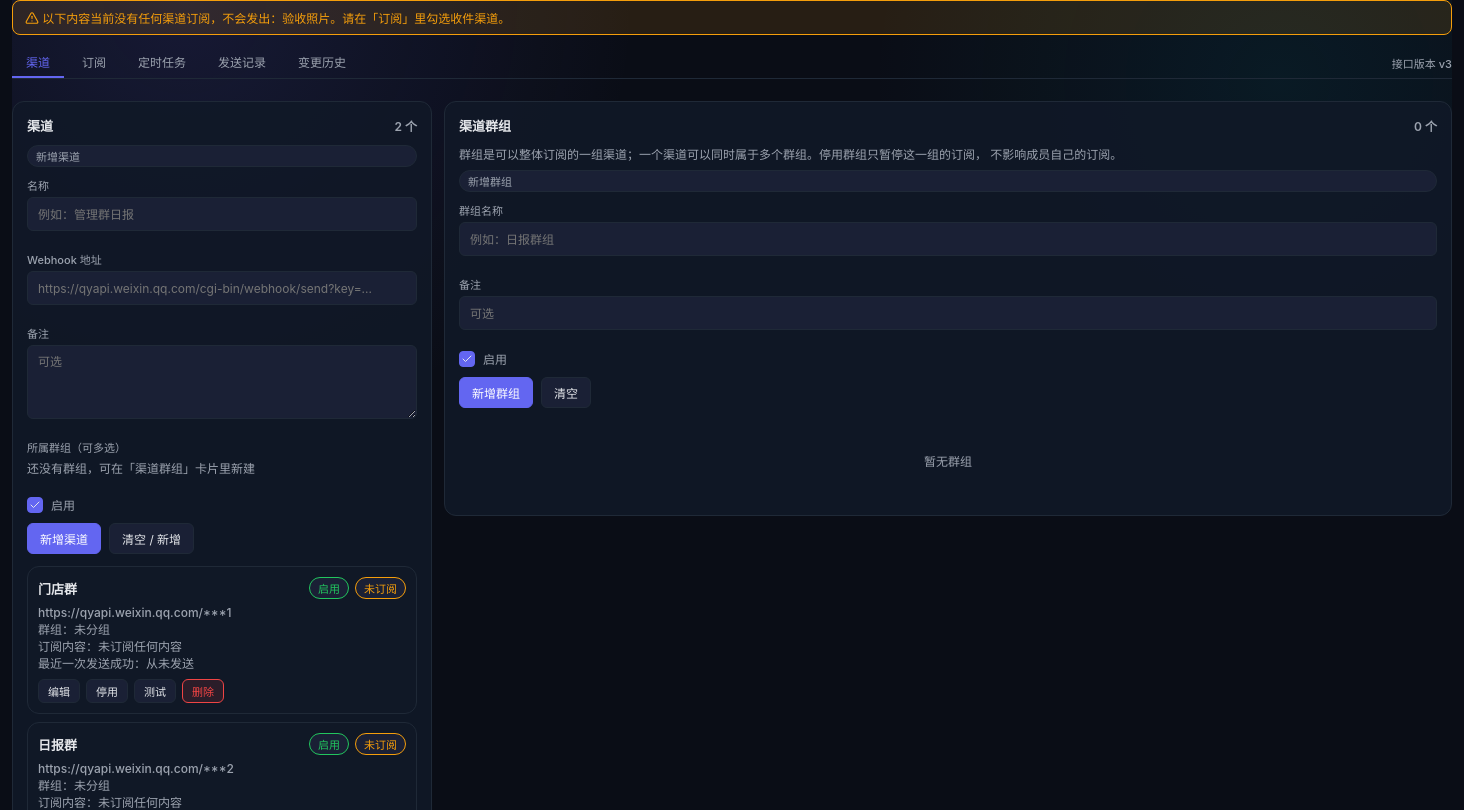
Test: 订阅矩阵 › 渠道不超过阈值时是勾选矩阵：行=内容类型，列=渠道
Click the button "订阅" at (94, 62), box [68,47,120,78]
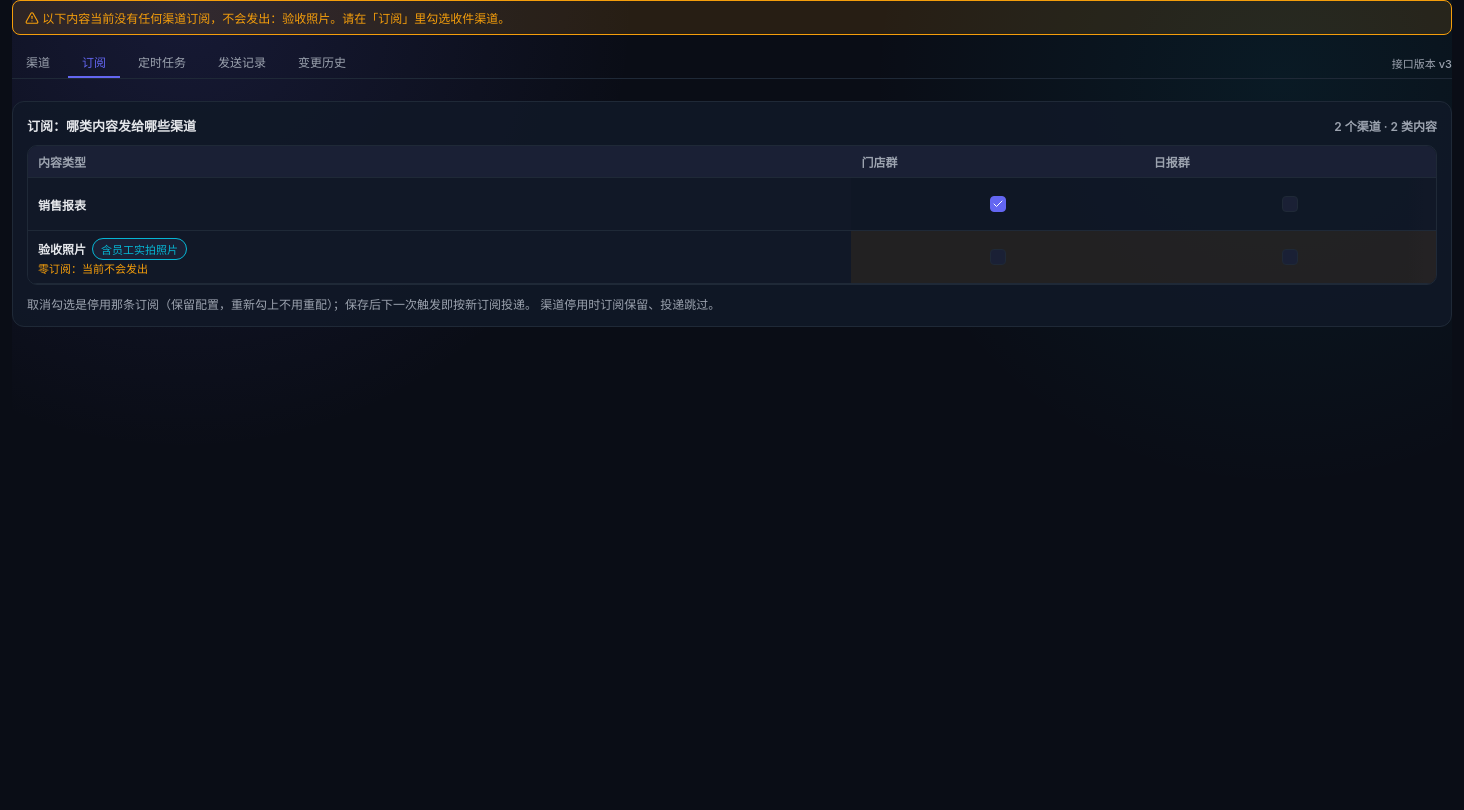
Now the table with class "wp-matrix" is shown, box [28,146,1436,284]
Now the column heading "内容类型" is shown, box [28,146,851,178]
